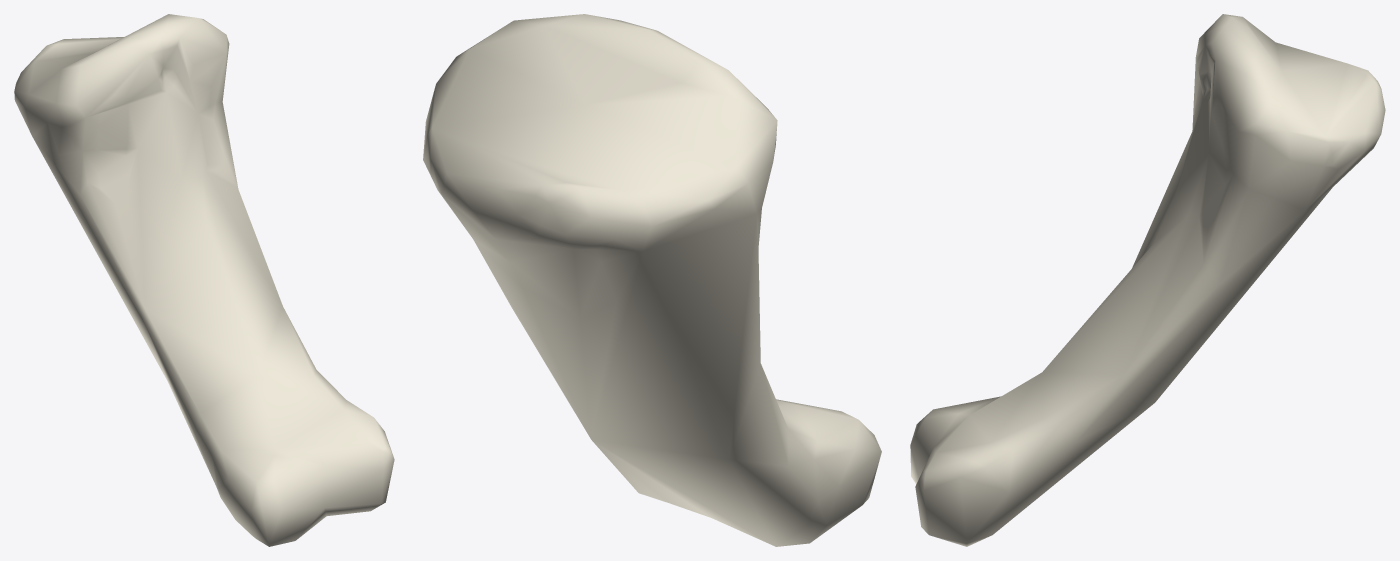
The picture shows the model from 3 angles, left to right: view 1: azimuth 30°, elevation 25°; view 2: azimuth 150°, elevation 25°; view 3: azimuth 270°, elevation 25°; orthographic projection. The views are drawn at different scales.
Parts seen in each view (by area): view 1: ZA_6c214d35b4a9c7d5; view 2: ZA_6c214d35b4a9c7d5; view 3: ZA_6c214d35b4a9c7d5.
Part boxes in pixels (<box>): ZA_6c214d35b4a9c7d5: <box>14,14,394,546</box>; ZA_6c214d35b4a9c7d5: <box>423,14,881,546</box>; ZA_6c214d35b4a9c7d5: <box>910,14,1385,546</box>.
Bounding box in the file's own units: 0.0142 × 0.0263 × 0.0238.
